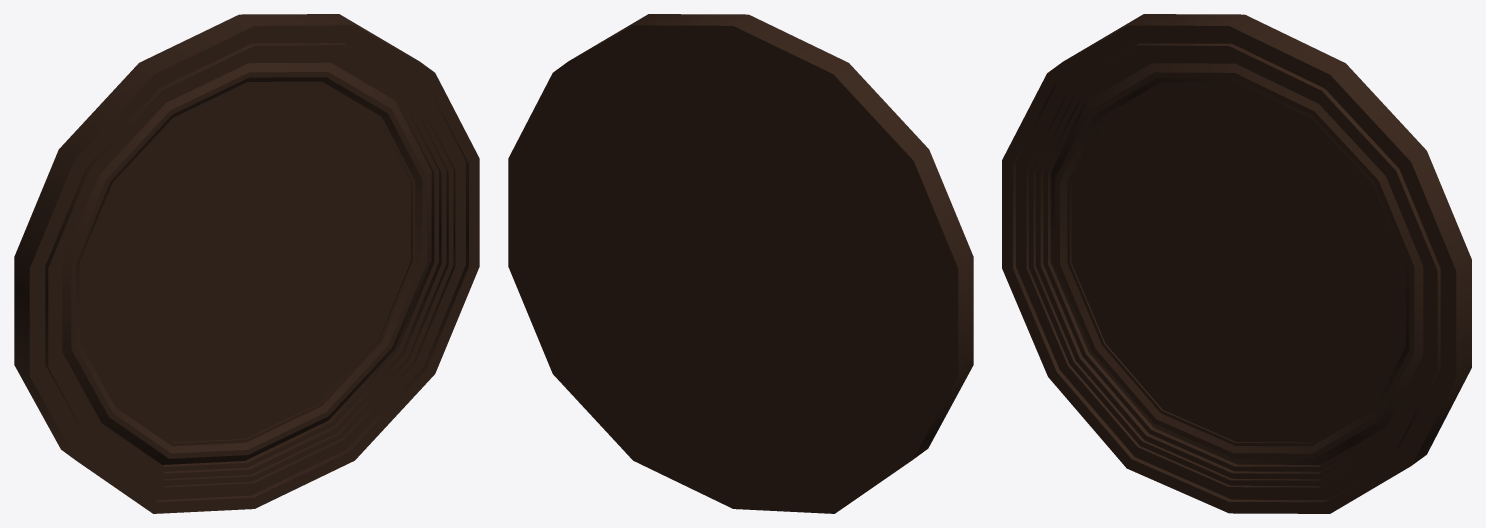
Rendered from Window_Round.fbx.
3 renders of one model, left to right at view 1: azimuth 30°, elevation 25°; view 2: azimuth 150°, elevation 25°; view 3: azimuth 330°, elevation 25°, orthographic.
Parts seen in each view (by area): view 1: Mirror 2.001; view 2: Mirror 2.001; view 3: Mirror 2.001.
Boxes of the visible parts, left/top/right/bottom form: Mirror 2.001: left=14, top=14, right=479, bottom=513; Mirror 2.001: left=508, top=14, right=973, bottom=513; Mirror 2.001: left=1002, top=14, right=1471, bottom=513.
Size of the model in its own units: 136 by 140 by 8.51.
